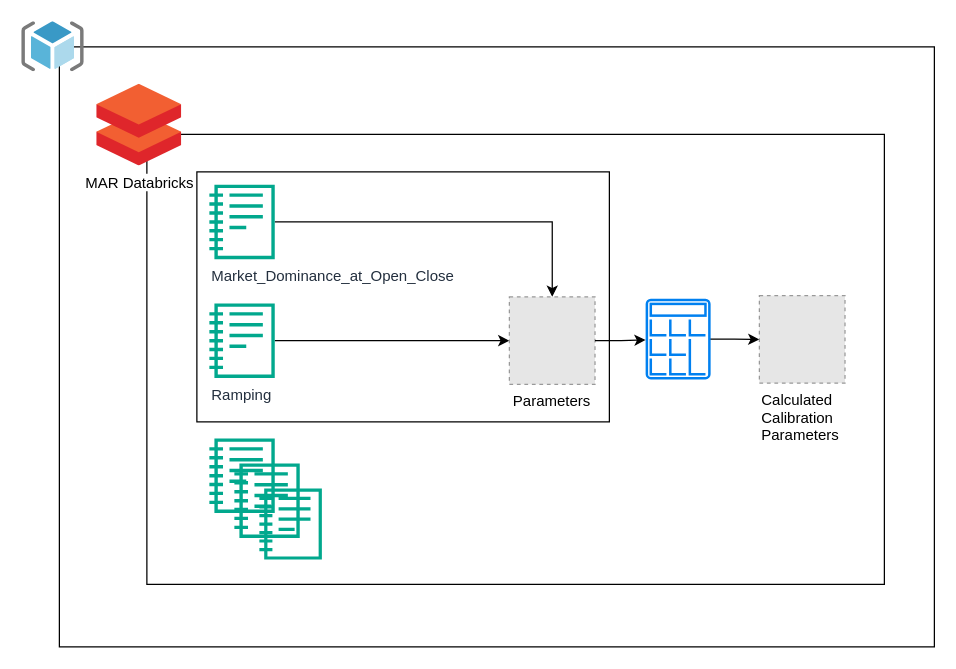
The diagram is 956 pixels wide and 669 high, and some of its shapes have lost their labels. Grey dashed boxes stand in for pictures. The box of each missing label's shape, as (x1, y1, x2, y2) in pixels:
MAR: (21, 21, 84, 71)
ML Model: (645, 298, 710, 379)
